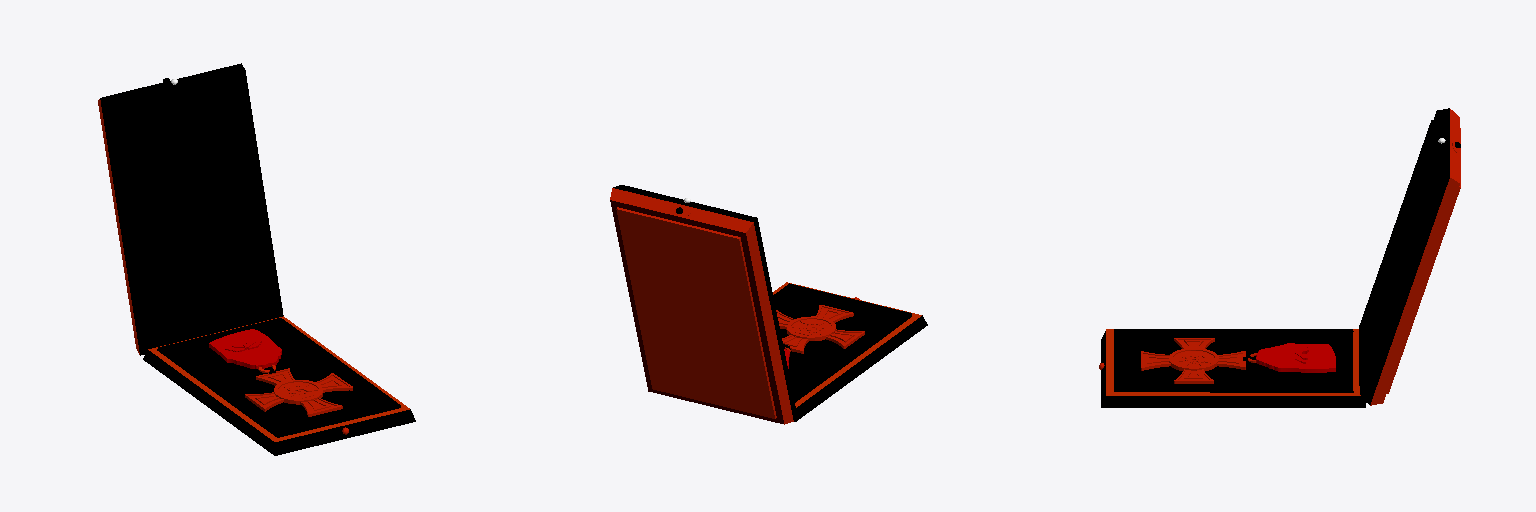
The model's file is Huan_chuong.obj.
3 views of the same model, side by side, from view 1: azimuth 30°, elevation 25°; view 2: azimuth 150°, elevation 25°; view 3: azimuth 270°, elevation 25° (orthographic).
Parts seen in each view (by area): view 1: 3d-model; view 2: 3d-model; view 3: 3d-model.
Boxes of the visible parts, <box> form: 3d-model: <box>98,63,415,455</box>; 3d-model: <box>610,185,927,424</box>; 3d-model: <box>1099,108,1460,407</box>.
Size of the model in its own units: 0.1049 by 0.1663 by 0.2323.